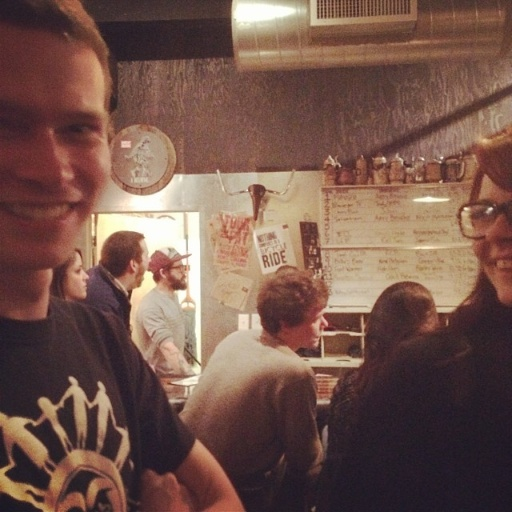hand: (140, 465, 196, 511)
